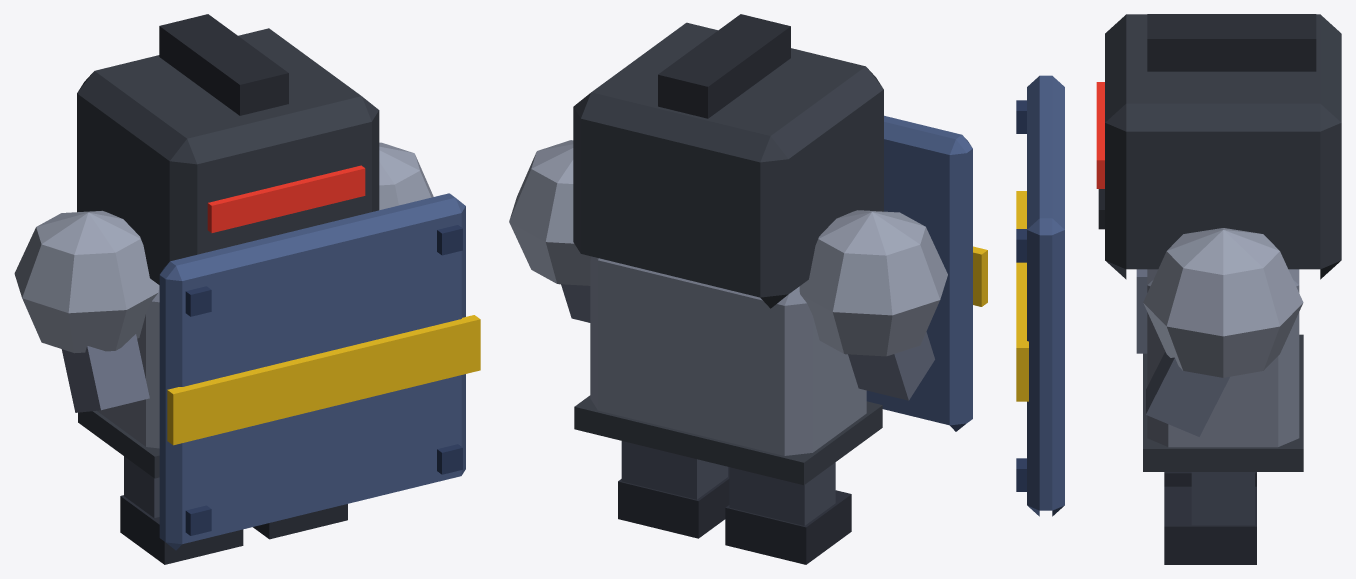
File: brute.glb
3 views of the same model, side by side, from view 1: azimuth 30°, elevation 25°; view 2: azimuth 150°, elevation 25°; view 3: azimuth 270°, elevation 25° (orthographic). The views are drawn at different scales.
Parts seen in each view (by area): view 1: brute_mesh; view 2: brute_mesh; view 3: brute_mesh.
Boxes of the visible parts, <box> form: brute_mesh: <box>14,14,480,564</box>; brute_mesh: <box>509,14,987,564</box>; brute_mesh: <box>1016,14,1341,564</box>.
Size of the model in its own units: 2.02 by 2.2 by 1.32.
Materials: 1 (1 with a texture image).
